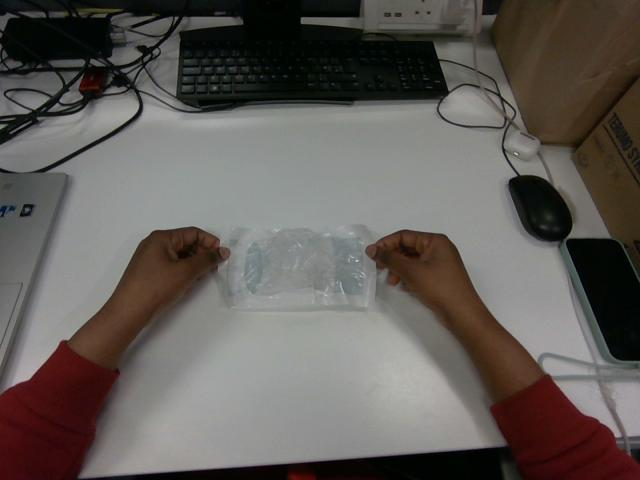gallipot: (223, 225, 375, 309)
